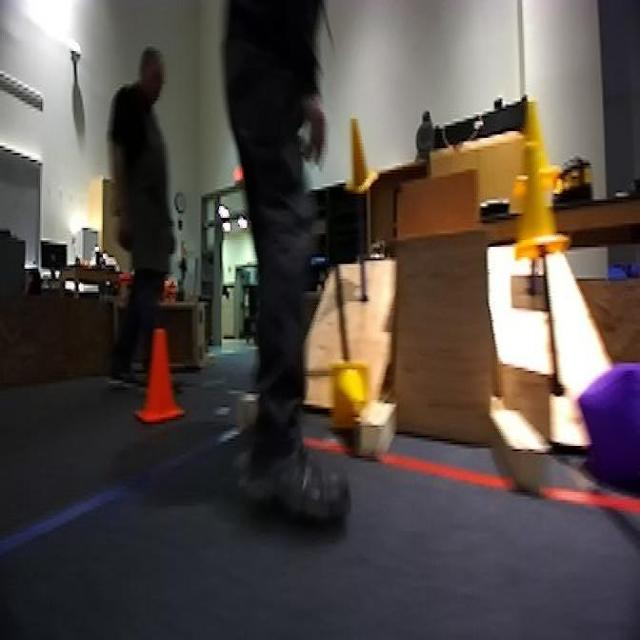frc_cone: (511, 132, 560, 266), (522, 99, 556, 182), (328, 366, 372, 427), (346, 119, 378, 189)
frc_cube: (577, 356, 640, 495)
